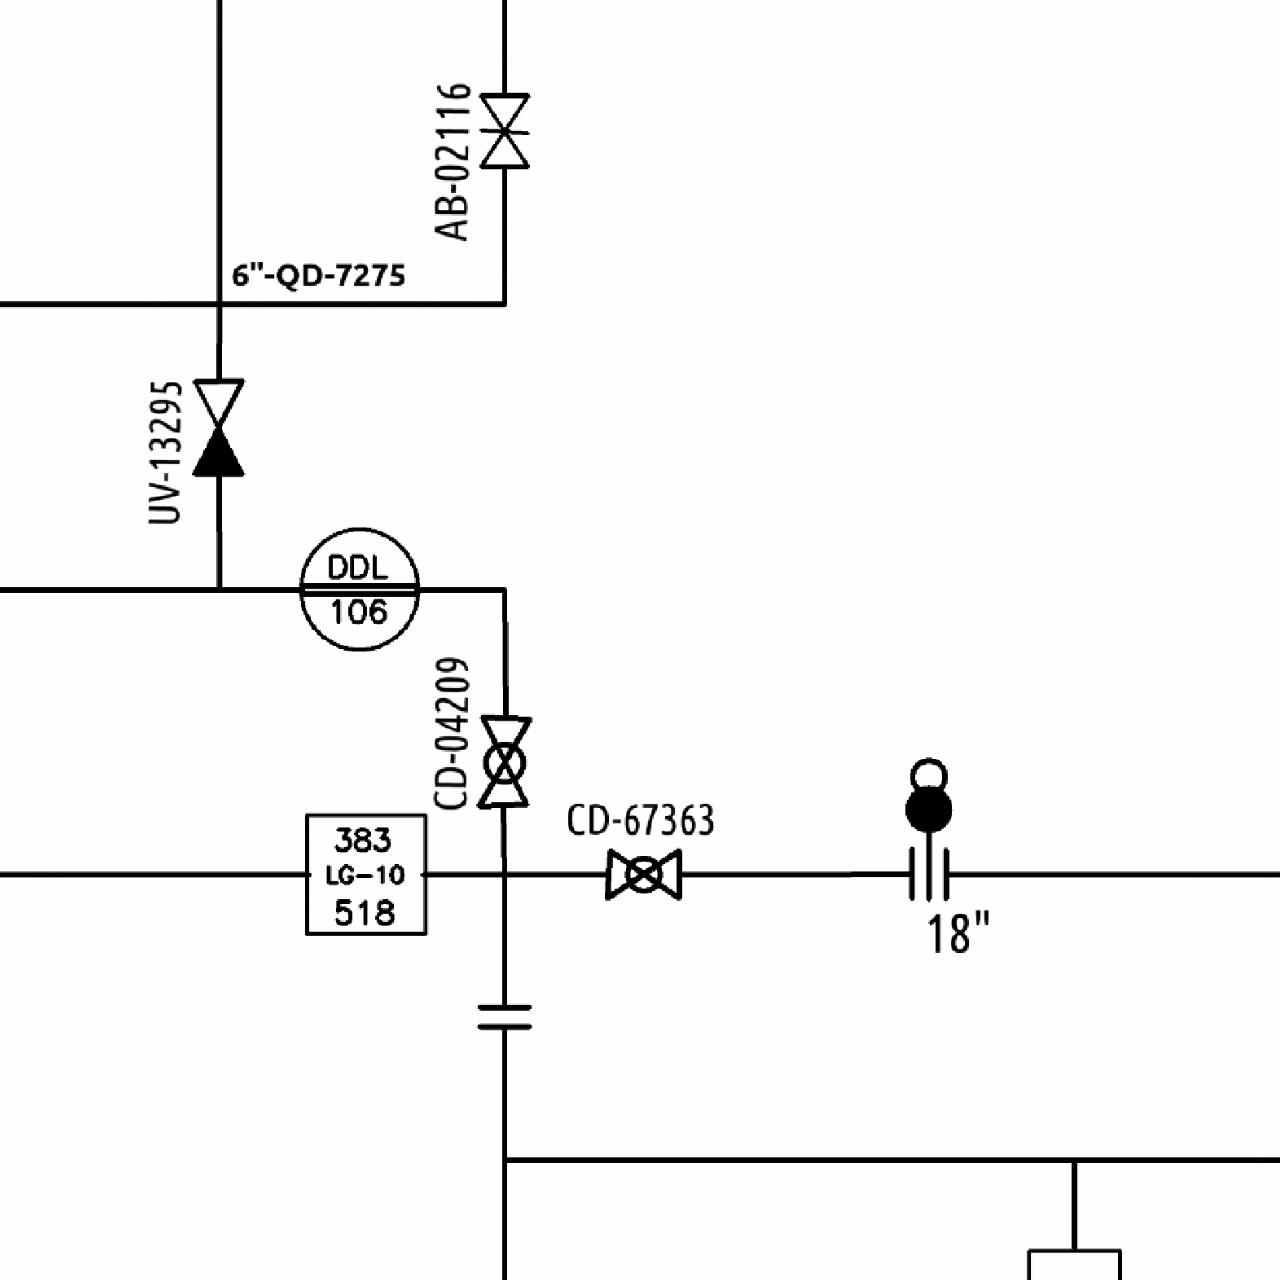Control-Panel: (292, 522, 425, 655)
Half closed valve: (188, 373, 248, 479)
